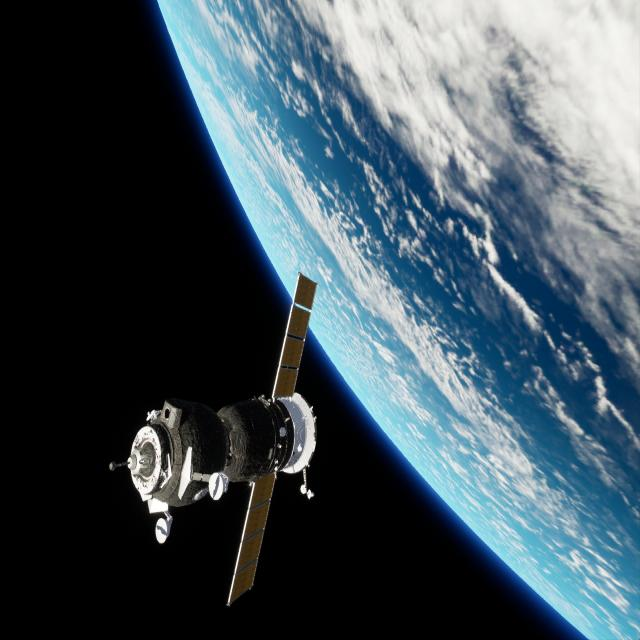Satellites revolving around earth: (108, 269, 322, 608)
